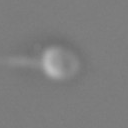normal: (1, 55, 43, 72)
